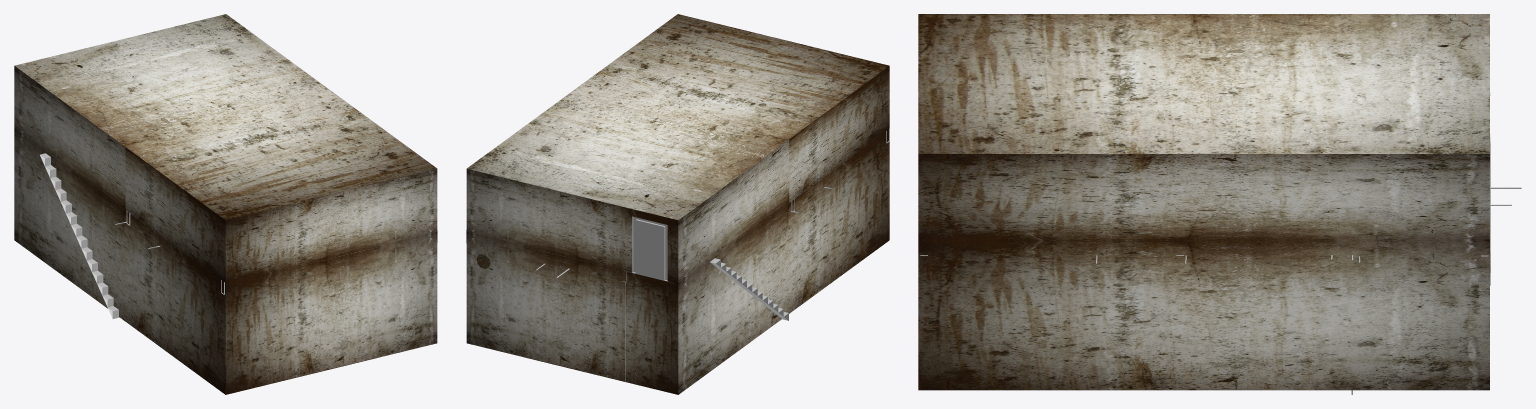
File: basement.fbx
The picture shows the model from 3 angles, left to right: view 1: azimuth 30°, elevation 25°; view 2: azimuth 150°, elevation 25°; view 3: azimuth 270°, elevation 25°; orthographic projection. The views are drawn at different scales.
Visible parts, largest first — view 1: body, stairs; view 2: body, stairs; view 3: body.
Part boxes in pixels (left/top/right/bottom): body: left=14, top=14, right=437, bottom=394; stairs: left=40, top=153, right=119, bottom=318; body: left=466, top=14, right=889, bottom=394; stairs: left=710, top=258, right=788, bottom=320; body: left=918, top=14, right=1489, bottom=390.
Size of the model in its own units: 2230 by 1624 by 3648.
